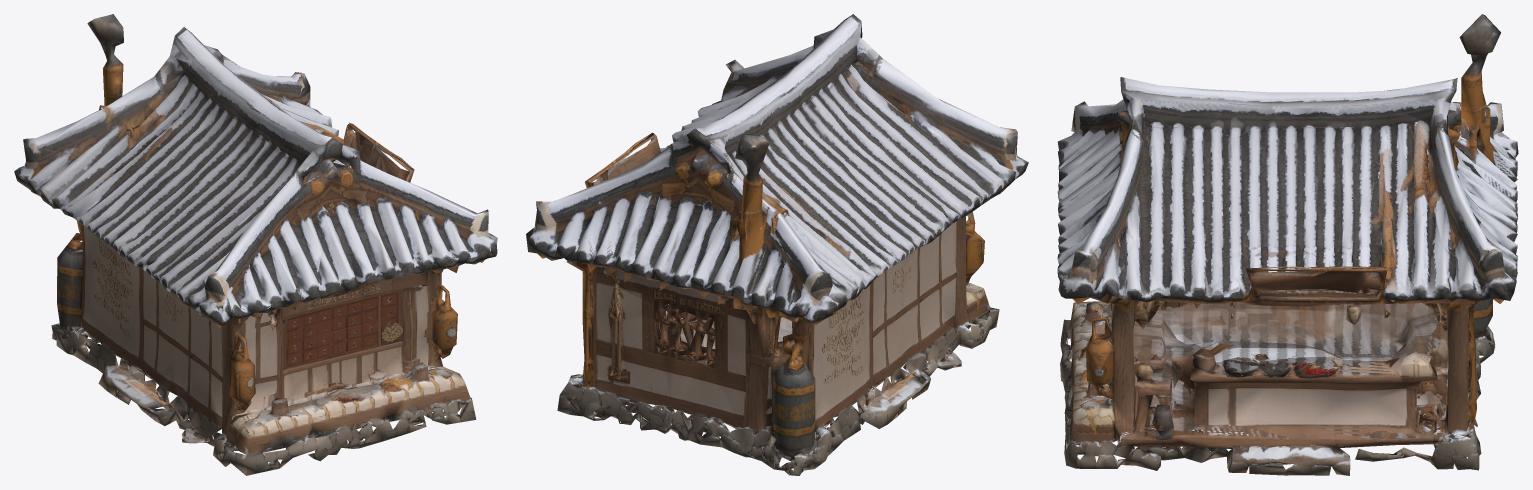
Rendered from PR_Shop_Herbal.fbx.
3 views of the same model, side by side, from view 1: azimuth 30°, elevation 25°; view 2: azimuth 150°, elevation 25°; view 3: azimuth 270°, elevation 25° (orthographic). The views are drawn at different scales.
Visible parts, largest first — view 1: texture_mapping; view 2: texture_mapping; view 3: texture_mapping.
Part boxes in pixels (<box>): texture_mapping: <box>14,14,497,475</box>; texture_mapping: <box>526,14,1028,475</box>; texture_mapping: <box>1057,14,1518,475</box>.
Size of the model in its own units: 0.8077 by 0.9891 by 0.8271.
Materials: 1 (1 with a texture image).
